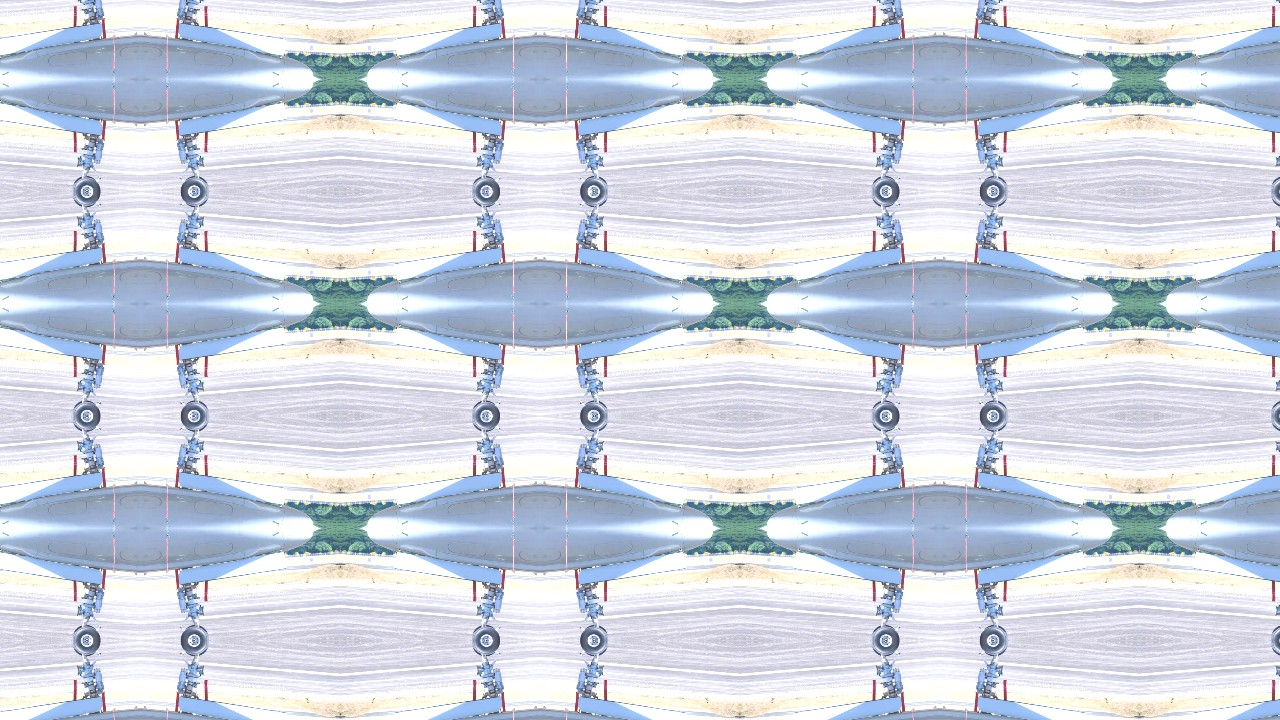wheel: (70, 174, 101, 191), (179, 174, 210, 191), (470, 174, 501, 191), (579, 174, 610, 191), (870, 174, 901, 191), (979, 174, 1010, 191), (70, 191, 101, 208), (179, 191, 210, 208), (470, 191, 501, 208), (579, 191, 610, 208), (870, 191, 901, 208), (979, 191, 1010, 208), (70, 399, 101, 416), (179, 399, 210, 416), (470, 399, 501, 416), (579, 399, 610, 416), (870, 399, 901, 416), (979, 399, 1010, 416), (70, 416, 101, 433), (179, 416, 210, 433), (470, 416, 501, 433), (579, 416, 610, 433), (870, 416, 901, 433), (979, 416, 1010, 433), (70, 624, 101, 641), (179, 624, 210, 641), (470, 624, 501, 641), (579, 624, 610, 641), (870, 624, 901, 641), (979, 624, 1010, 641), (70, 641, 101, 658), (179, 641, 210, 658), (470, 641, 501, 658), (579, 641, 610, 658), (870, 641, 901, 658), (979, 641, 1010, 658), (73, 174, 96, 187), (184, 174, 207, 187), (473, 174, 496, 187), (584, 174, 607, 187), (873, 174, 896, 187), (984, 174, 1007, 187), (73, 399, 96, 412), (184, 399, 207, 412), (473, 399, 496, 412), (584, 399, 607, 412), (873, 399, 896, 412), (984, 399, 1007, 412), (73, 624, 96, 637), (184, 624, 207, 637), (473, 624, 496, 637), (584, 624, 607, 637), (873, 624, 896, 637), (984, 624, 1007, 637), (73, 196, 96, 208), (184, 196, 207, 208), (473, 196, 496, 208), (584, 196, 607, 208), (873, 196, 896, 208), (984, 196, 1007, 208), (73, 421, 96, 433), (184, 421, 207, 433), (473, 421, 496, 433), (584, 421, 607, 433), (873, 421, 896, 433), (984, 421, 1007, 433), (73, 646, 96, 658), (184, 646, 207, 658), (473, 646, 496, 658), (584, 646, 607, 658), (873, 646, 896, 658), (984, 646, 1007, 658), (1270, 174, 1280, 191), (1270, 191, 1280, 208), (1270, 399, 1280, 416), (1270, 416, 1280, 433), (1270, 624, 1280, 641), (1270, 641, 1280, 658), (1273, 174, 1280, 187), (1273, 399, 1280, 412), (1273, 624, 1280, 637), (1273, 196, 1280, 208), (1273, 421, 1280, 433), (1273, 646, 1280, 658)
